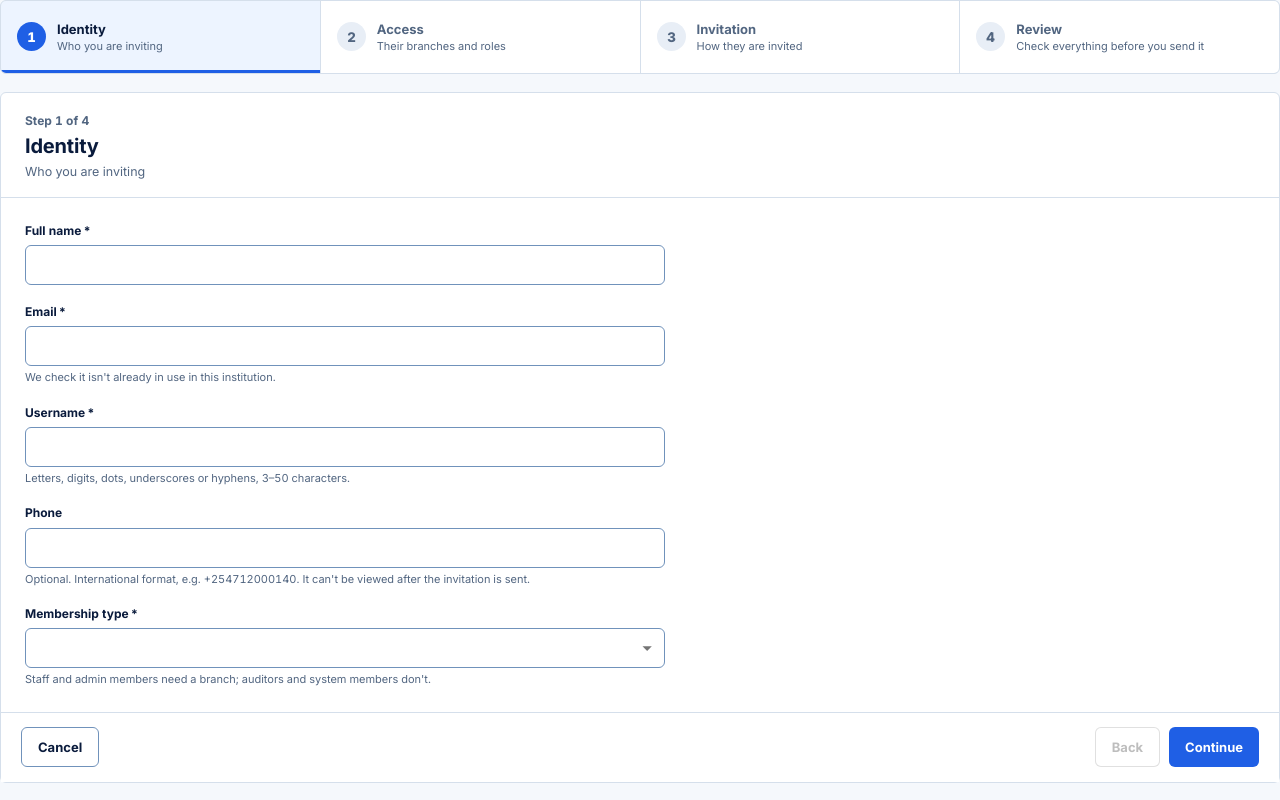
Test case: InviteUserWizard: the steps › checks the email on Continue, then moves to Access with its heading focused
In the field labelled "Full name": point(345, 265) [25,245,665,285], type "Neema Wanjiku"
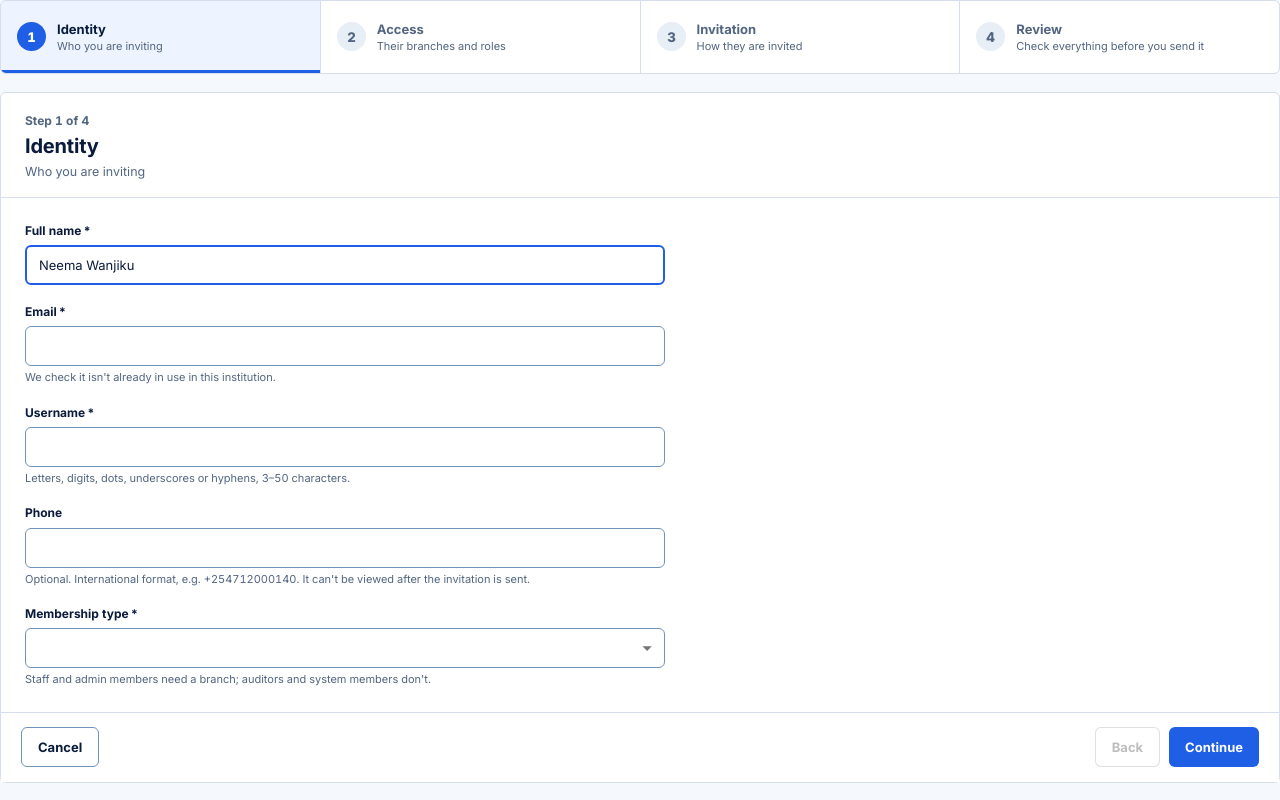
In the field labelled "Email": point(345, 346) [25,326,665,366], type "neema.wanjiku@greenfield.example"
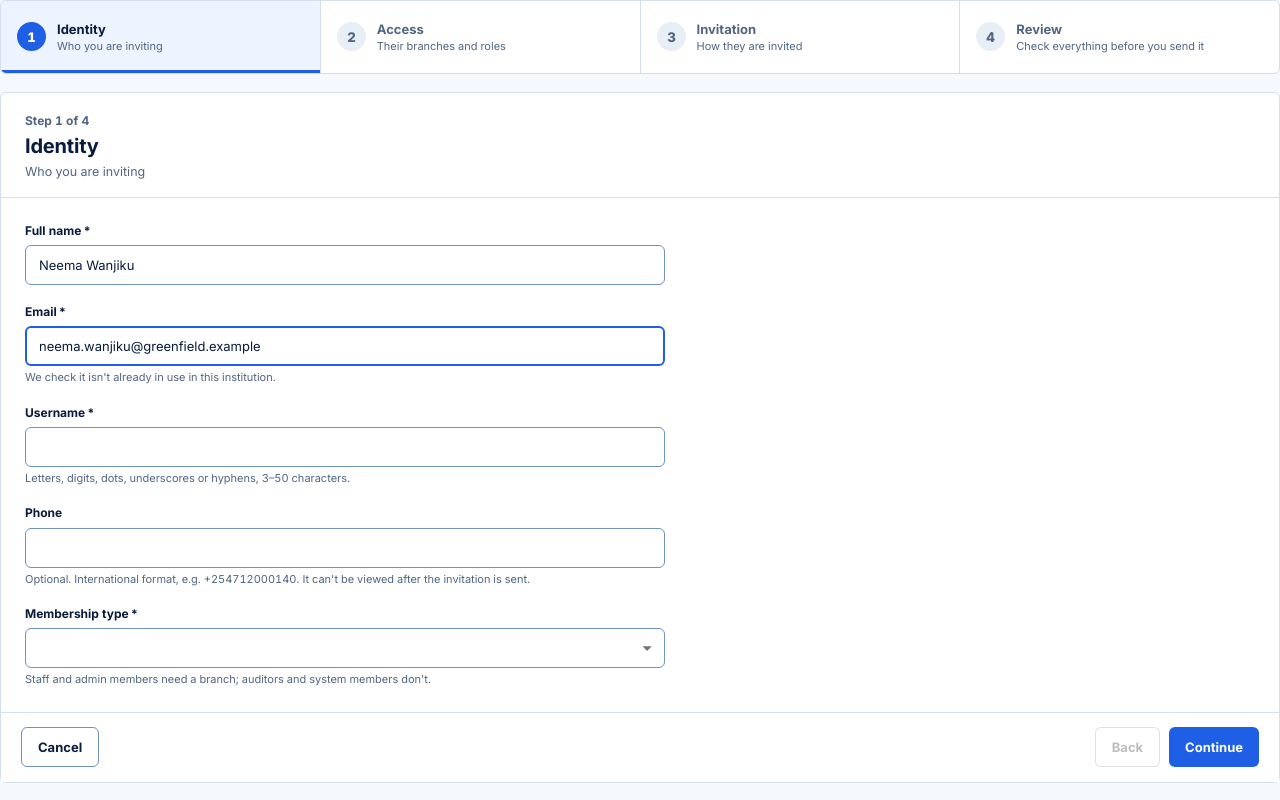
In the field labelled "Username": point(345, 447) [25,427,665,467], type "neema.wanjiku"
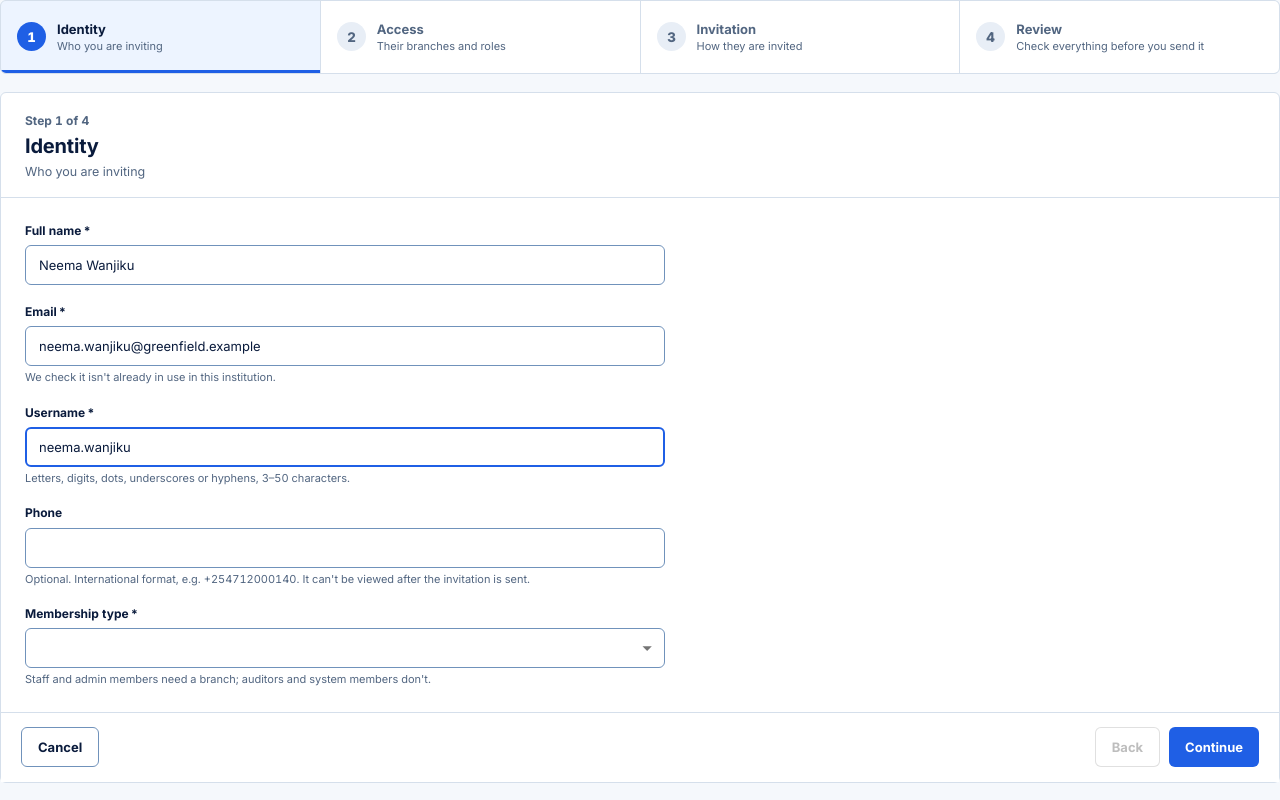
Click the dropdown named "Membership type": point(345, 648) [25,628,665,668]
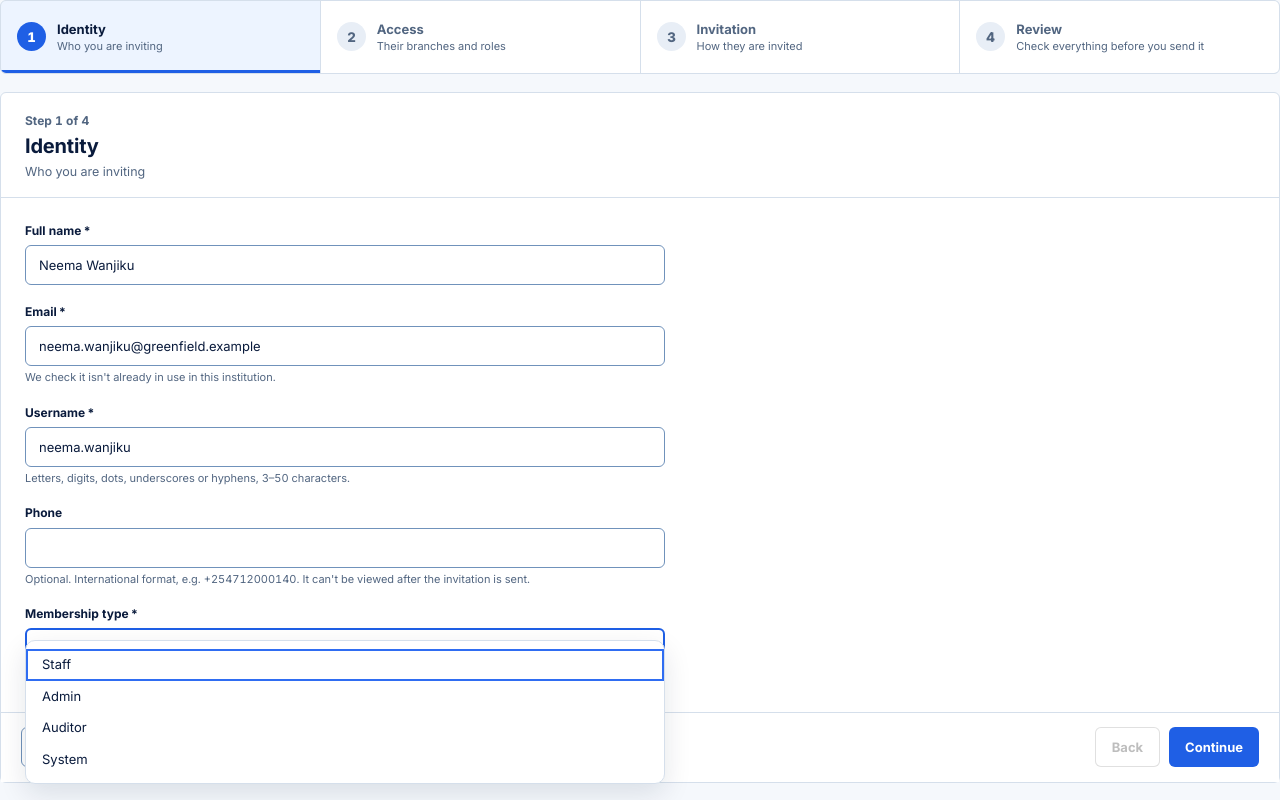
Click the option "Staff": point(57, 664) [26,649,664,680]
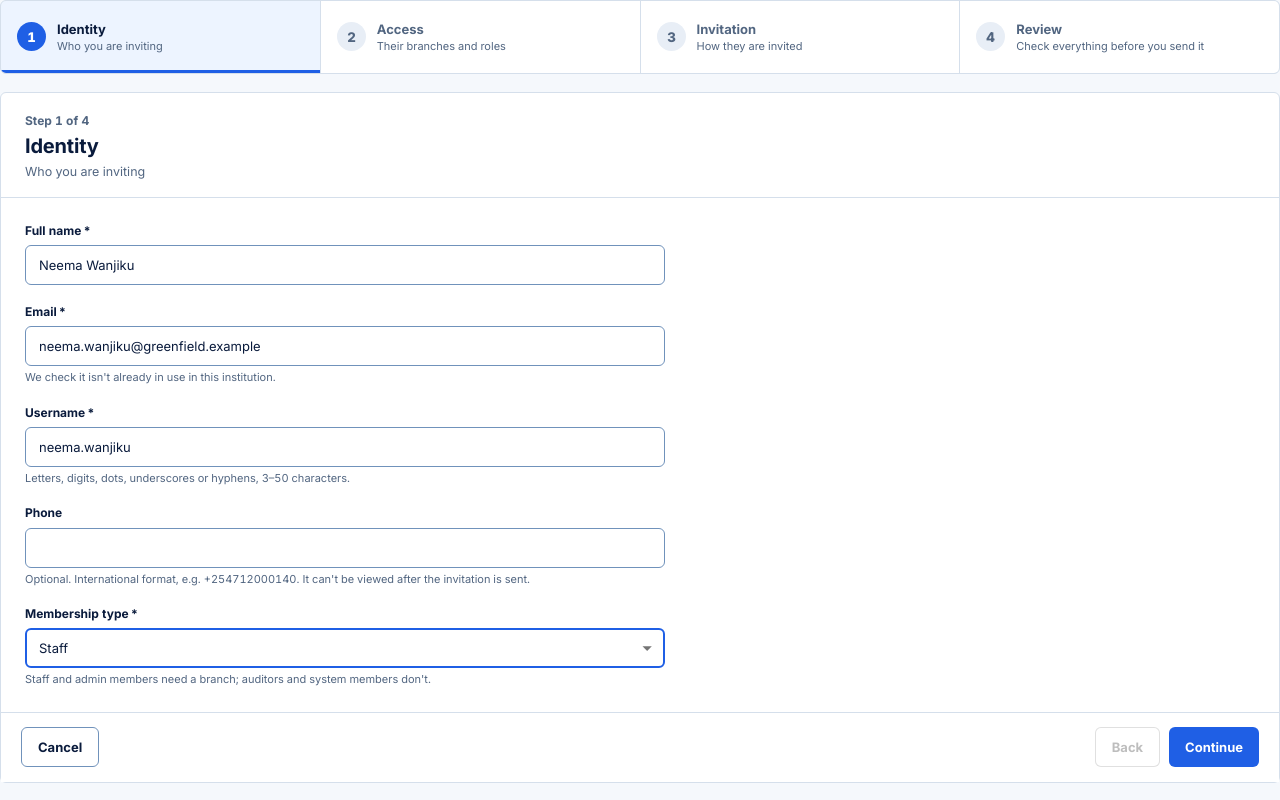
Click the button "Continue": point(1214, 747) [1169,727,1259,767]
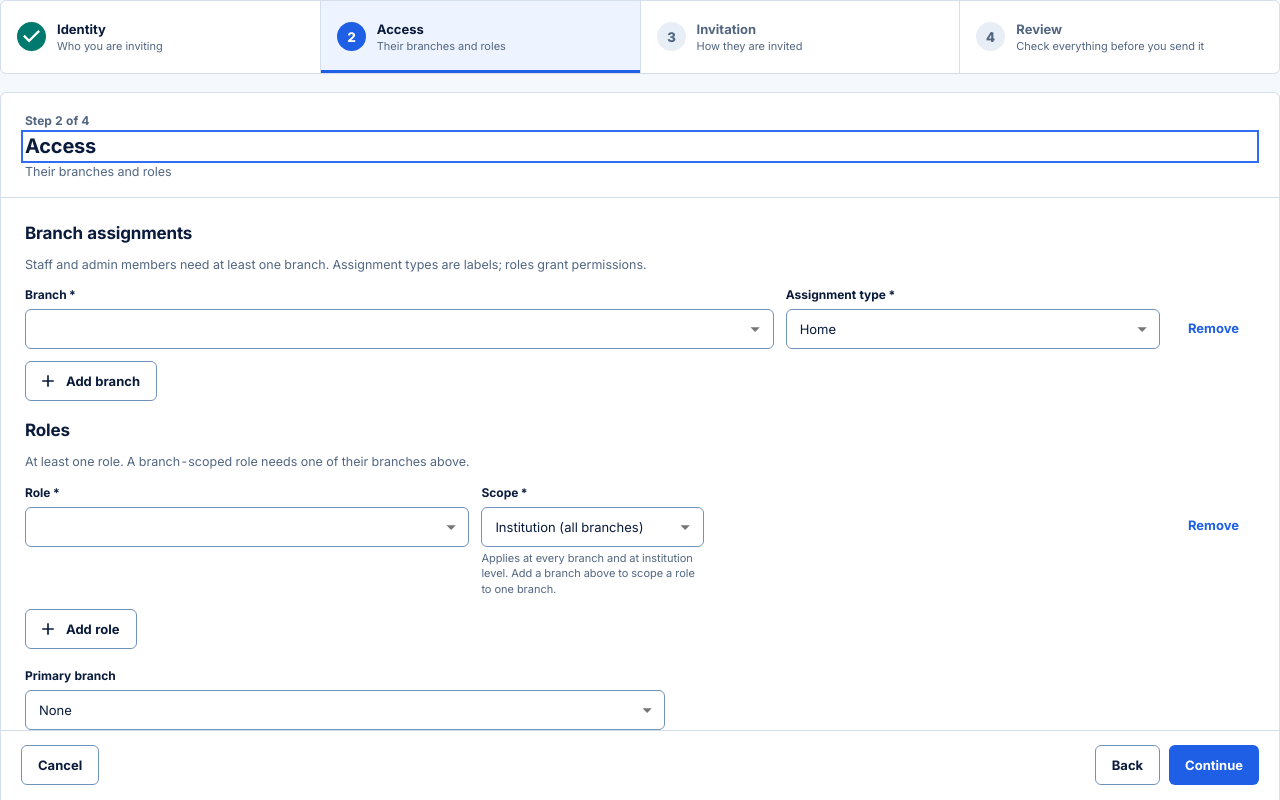
Expected: the heading "Access" is shown, [25,134,1255,159]
